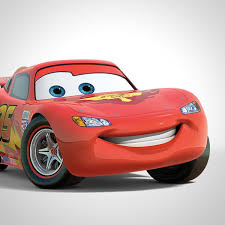mcqueen: (1, 58, 211, 191)
